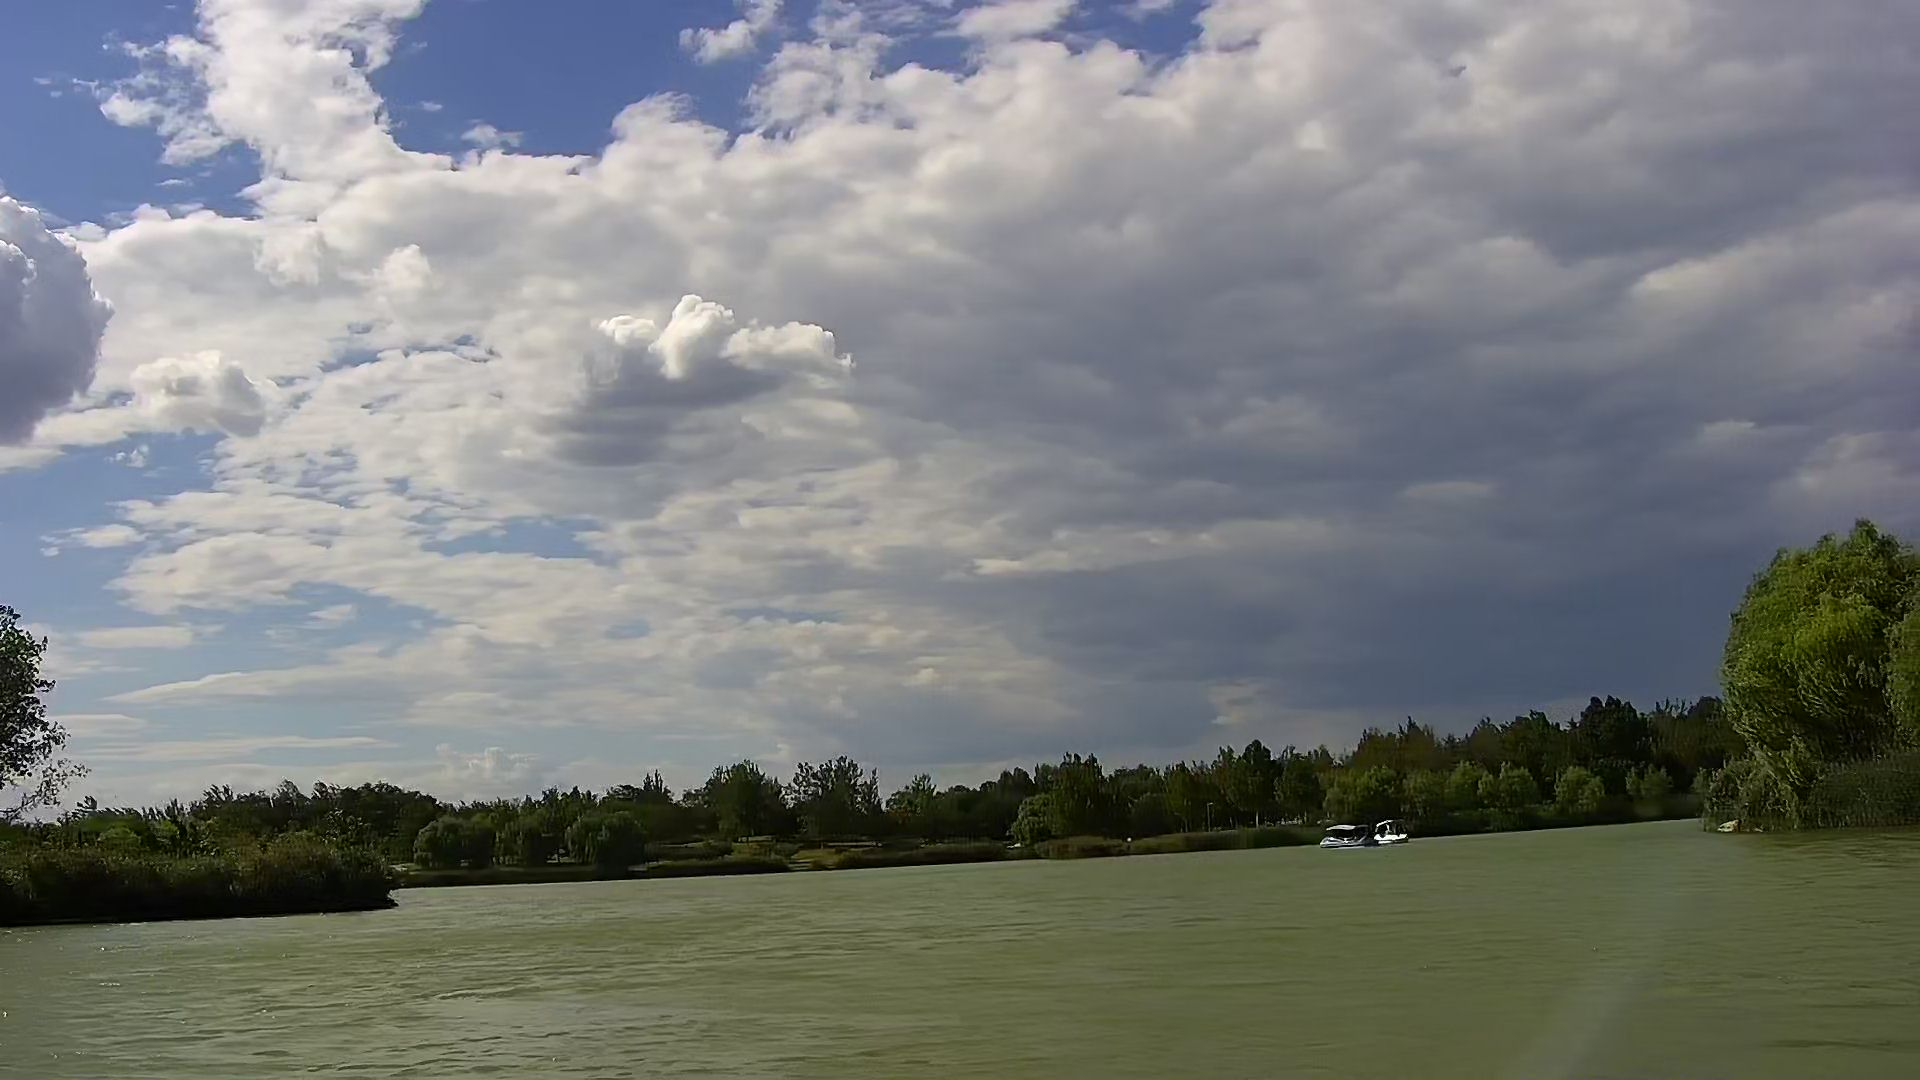boat: (1352, 816, 1414, 849), (1317, 822, 1371, 853)
rock: (1716, 816, 1742, 836)
